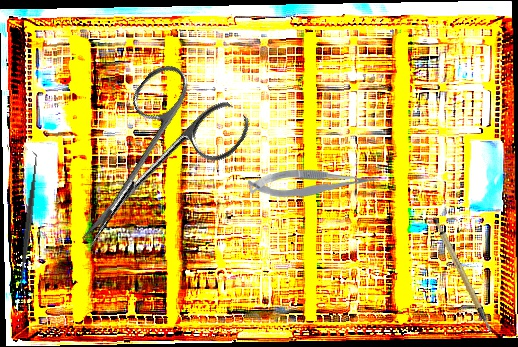Iris Scissors: (43, 53, 256, 280)
Micro Scissor: (246, 166, 381, 202)
Scalpel Handle: (430, 212, 493, 339)
Spatula Surgical: (12, 151, 46, 294)
